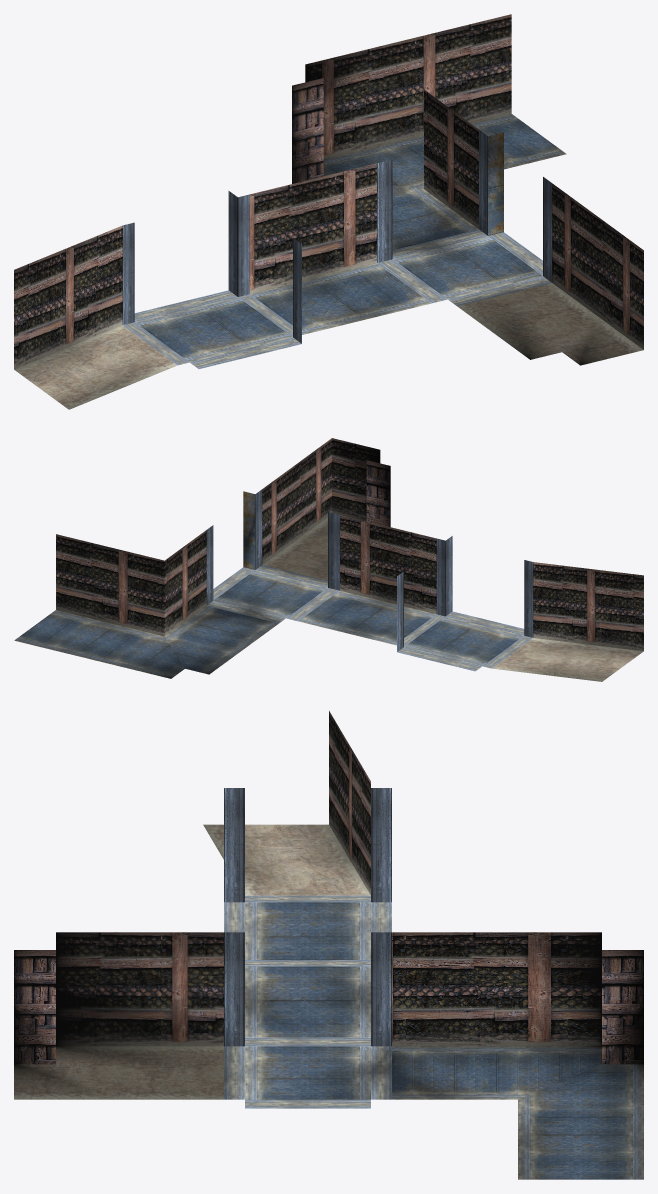
3 renders of one model, top to bottom at view 1: azimuth 30°, elevation 25°; view 2: azimuth 150°, elevation 25°; view 3: azimuth 270°, elevation 25°, orthographic. The views are drawn at different scales.
Visible parts, largest first — view 1: M09_Z05_07; view 2: M09_Z05_07; view 3: M09_Z05_07.
Boxes of the visible parts, x1,y1,x2,y2 form: M09_Z05_07: (14, 14, 643, 409); M09_Z05_07: (14, 438, 643, 681); M09_Z05_07: (14, 711, 643, 1179).
Size of the model in its own units: 20 by 3 by 15.
6 materials, 6 textured.
